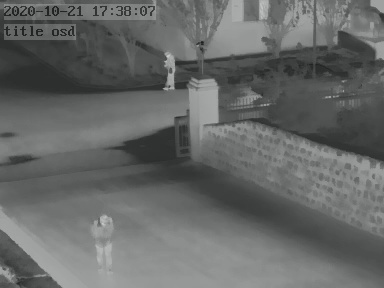person: (92, 209, 116, 270), (162, 48, 177, 91)
